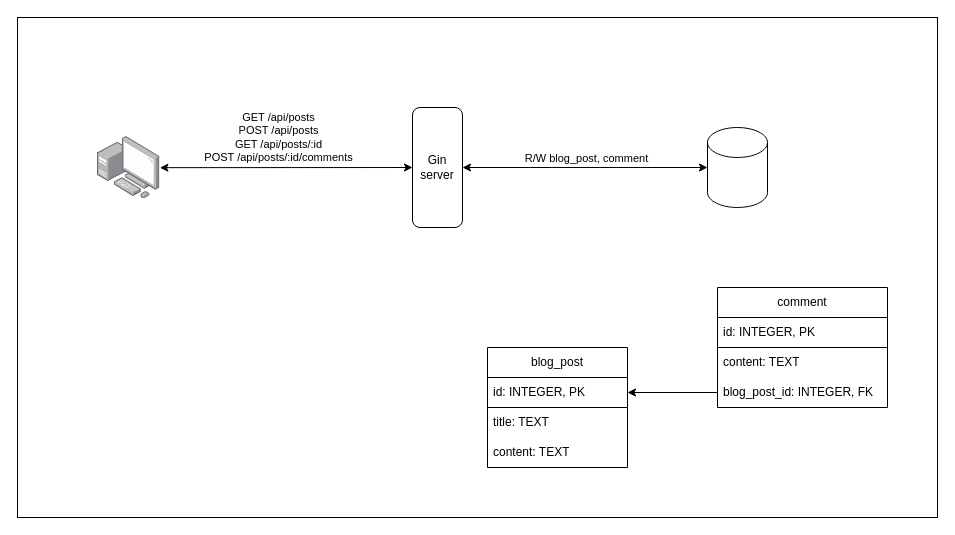
This 955x535 diagram has some shape labels left out. Each missing label, with the centre of its shape:
Browser, Postman, etc.: (x=128, y=167)
SQLite: (x=737, y=167)
